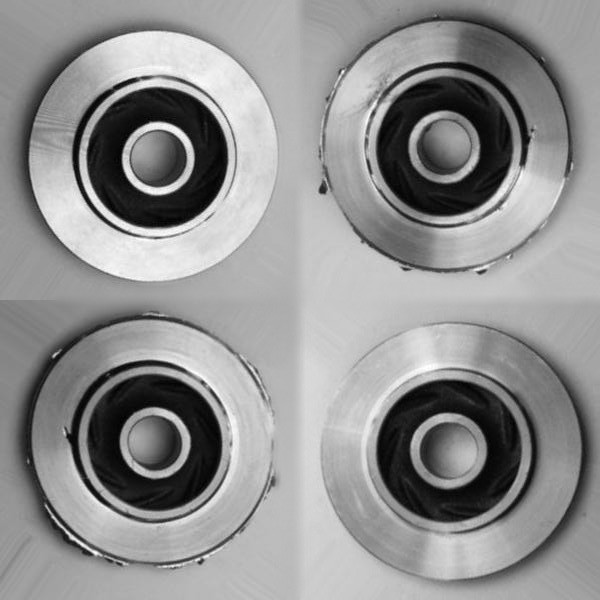pump_impeller: (319, 321, 590, 585), (316, 14, 574, 280), (21, 315, 280, 572), (25, 26, 281, 284)
